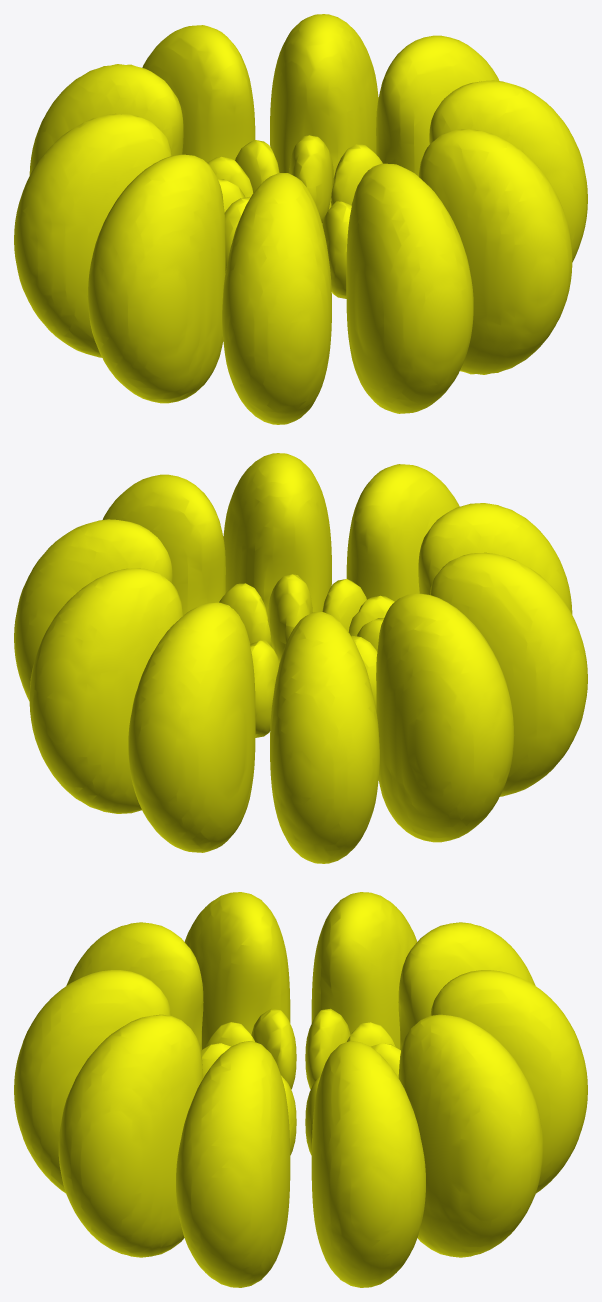
File: orb_n=7_ l=5 _m=-5.fbx
3 views of the same model, one above another, from view 1: azimuth 30°, elevation 25°; view 2: azimuth 150°, elevation 25°; view 3: azimuth 270°, elevation 25° (orthographic).
Parts seen in each view (by area): view 1: orb_n=7_ l=5 _m=-5; view 2: orb_n=7_ l=5 _m=-5; view 3: orb_n=7_ l=5 _m=-5.
Boxes of the visible parts, <box> form: orb_n=7_ l=5 _m=-5: <box>14,14,587,424</box>; orb_n=7_ l=5 _m=-5: <box>14,453,587,863</box>; orb_n=7_ l=5 _m=-5: <box>14,892,587,1287</box>.
Size of the model in its own units: 18417 by 8652 by 19173.
